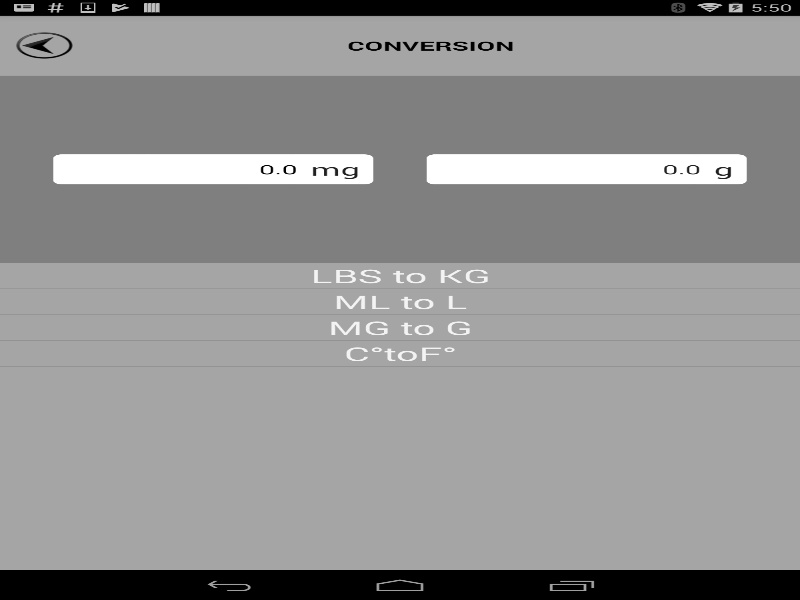Input: (426, 154, 700, 184), (53, 154, 297, 184)
